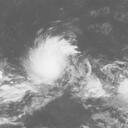cyclone: (26, 36, 73, 84)
